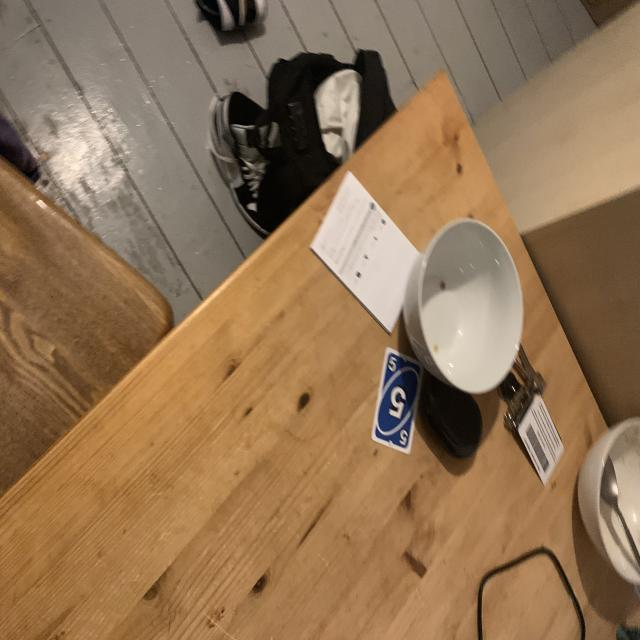lblue-5: (386, 354, 398, 375)
